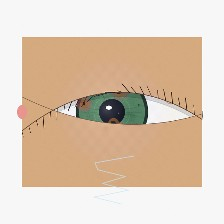foreign_body_visible: (97, 72, 142, 108)
